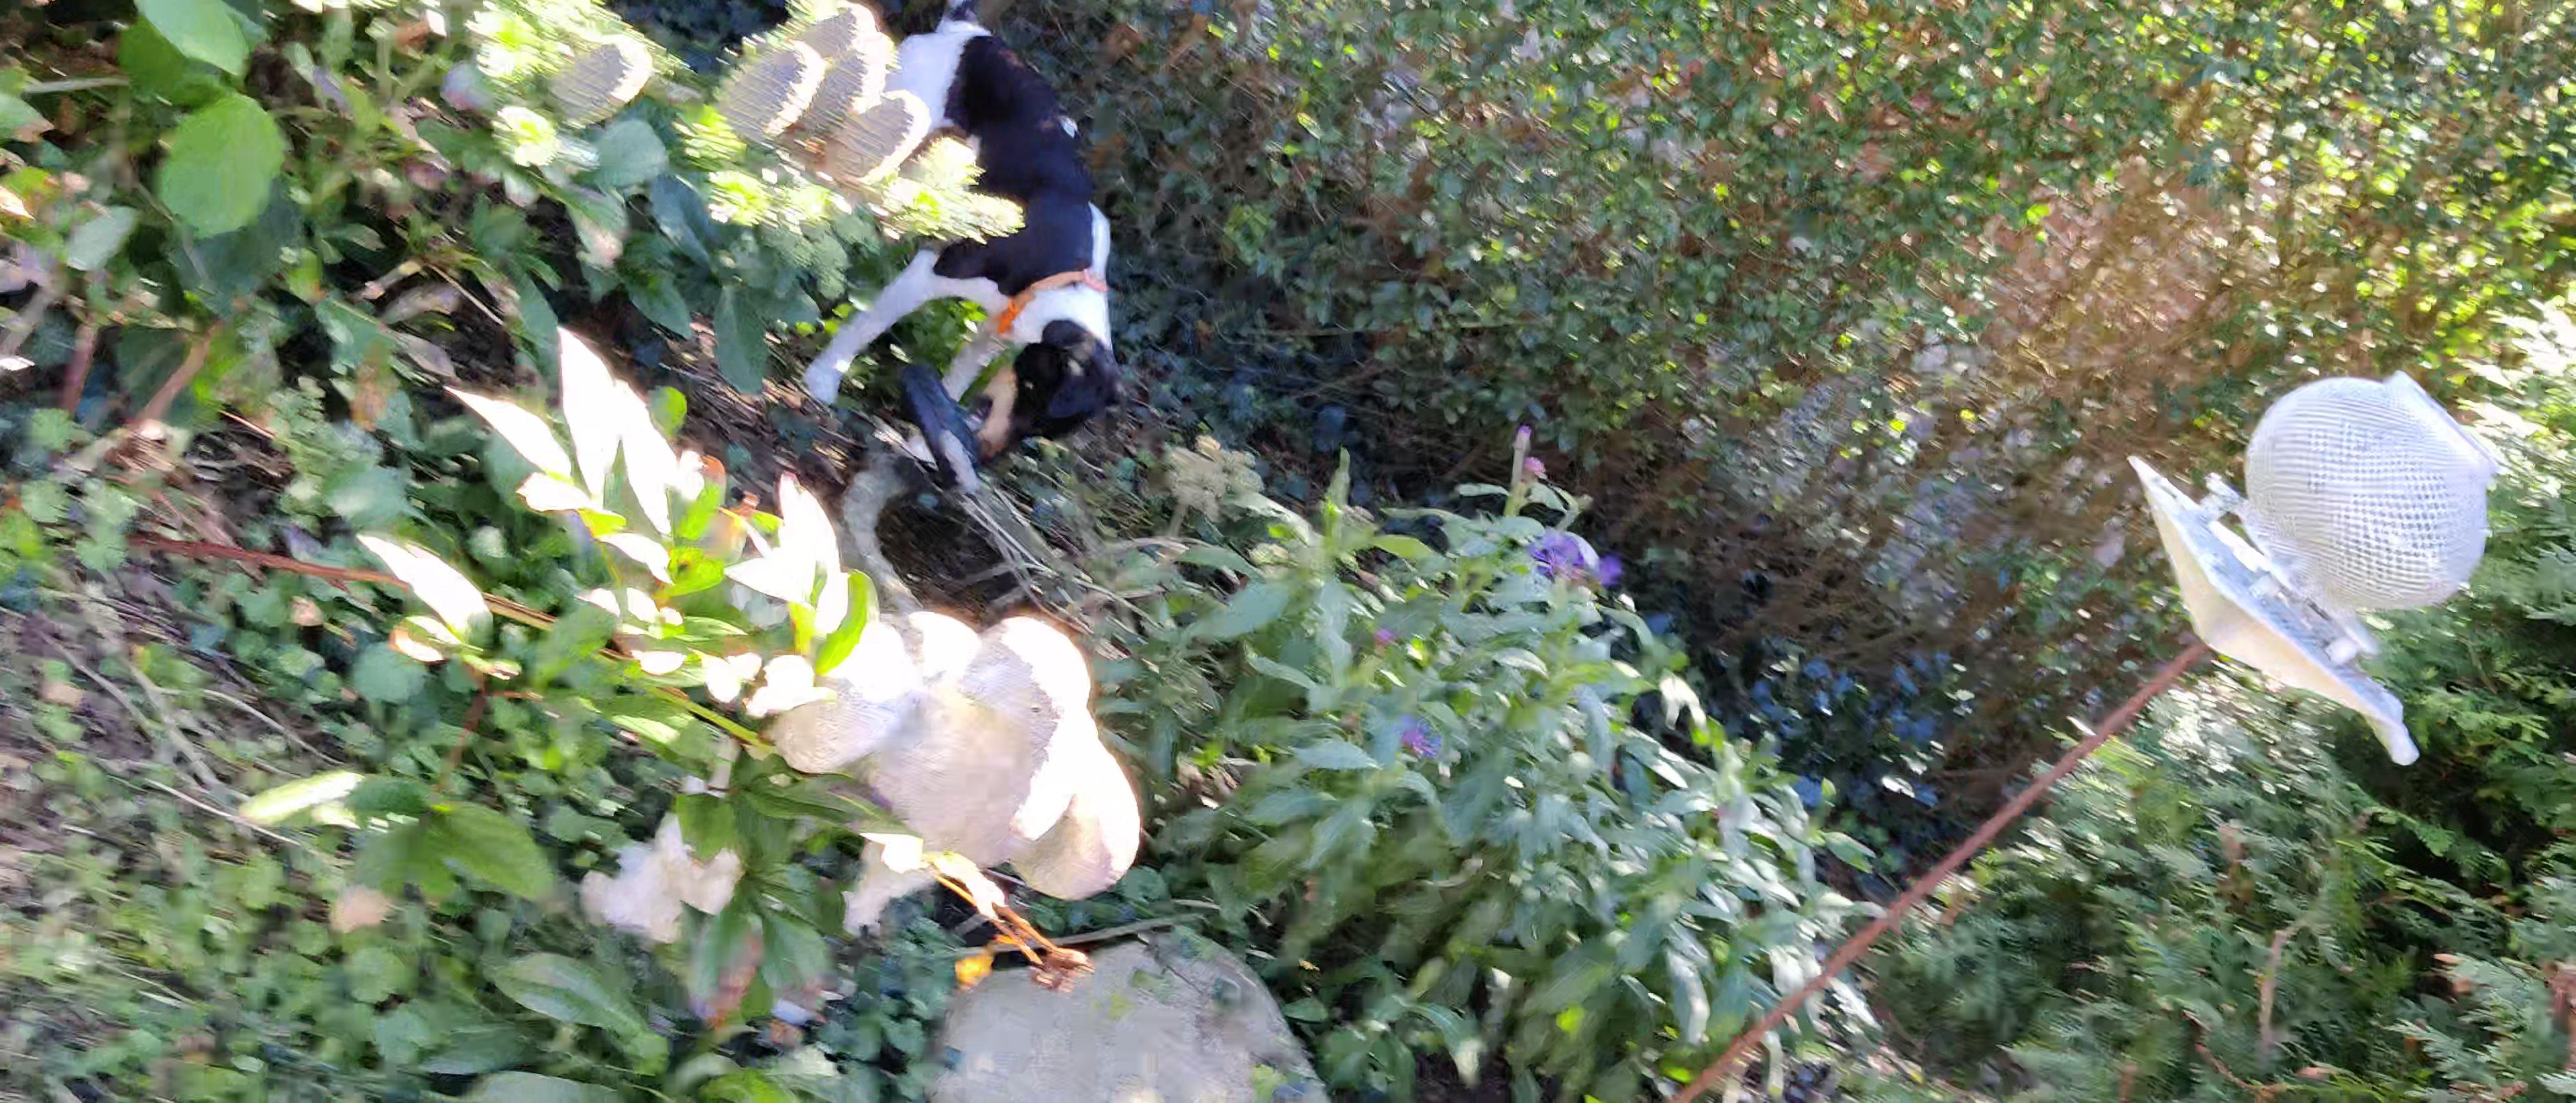Dog: (795, 0, 1137, 465)
